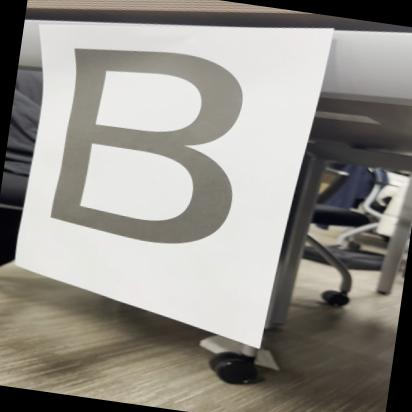seat: (30, 33, 276, 278)
